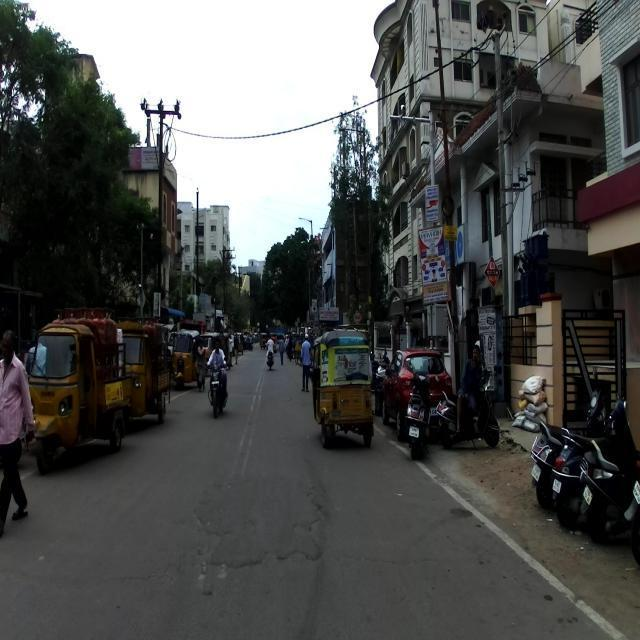Pothole: (171, 453, 338, 631)
